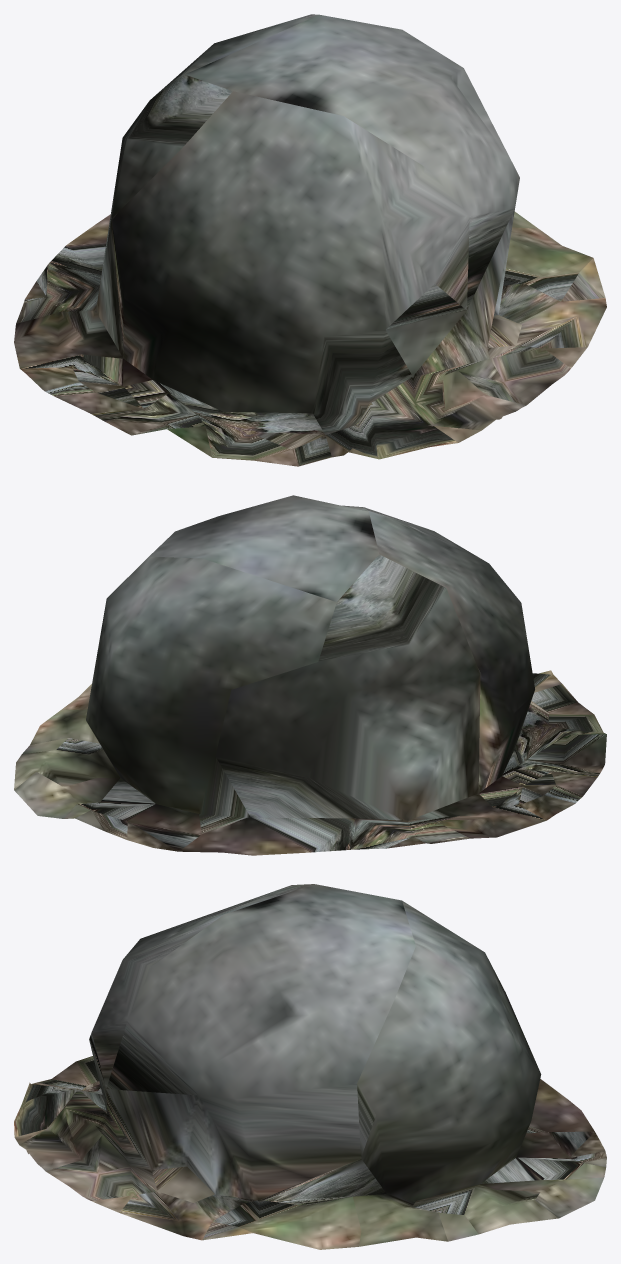
File: big-boulder.lod1.glb
3 renders of one model, top to bottom at view 1: azimuth 30°, elevation 25°; view 2: azimuth 150°, elevation 25°; view 3: azimuth 270°, elevation 25°, orthographic. The views are drawn at different scales.
Visible parts, largest first — view 1: big_boulder__0; view 2: big_boulder__0; view 3: big_boulder__0.
Part boxes in pixels (x1,y1,x2,y2): big_boulder__0: [14, 14, 606, 466]; big_boulder__0: [14, 495, 606, 855]; big_boulder__0: [14, 884, 606, 1249].
Size of the model in its own units: 5.72 by 2.66 by 5.99.
1 material, 1 textured.
